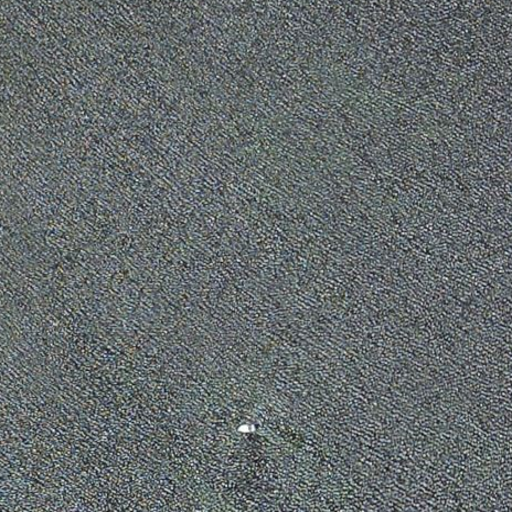ship: (235, 421, 259, 436)
